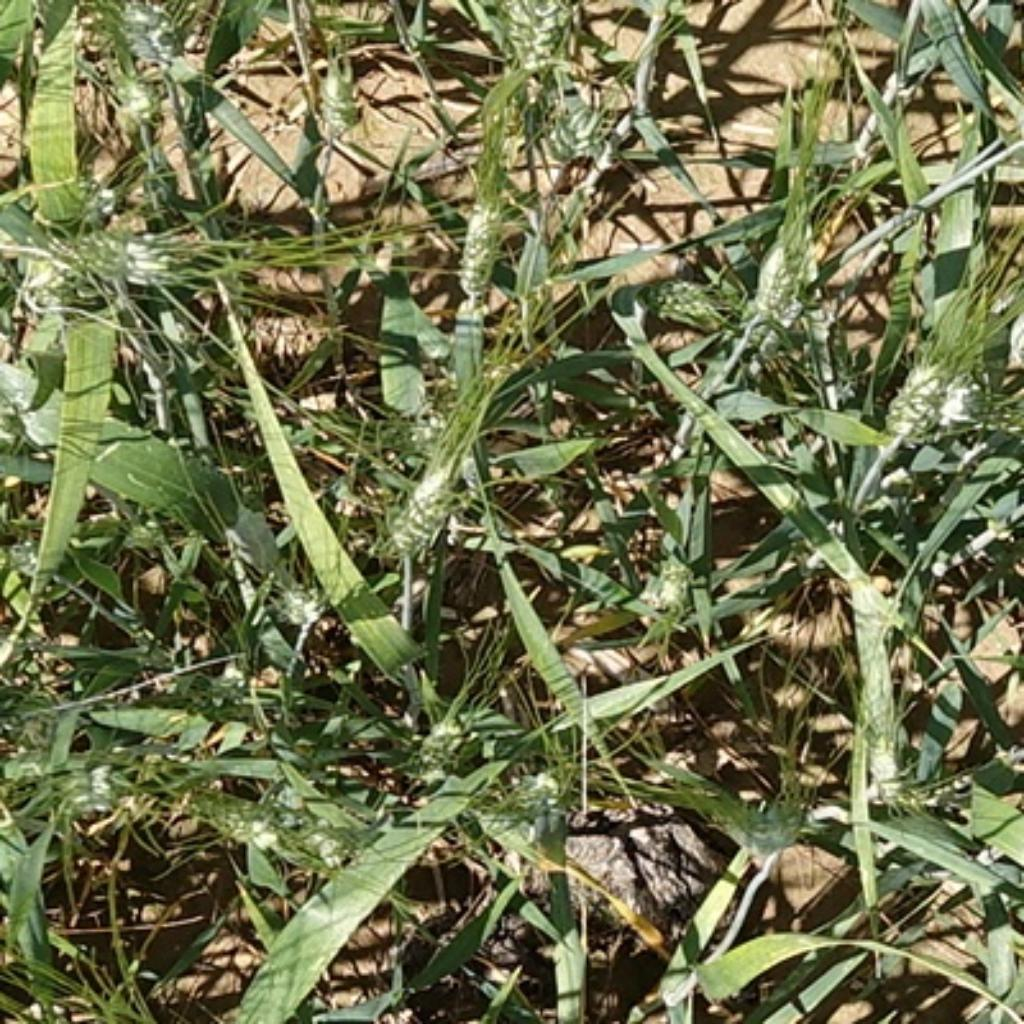0-0: (844, 668, 919, 803), (756, 216, 845, 324), (47, 224, 175, 295), (471, 2, 583, 74), (552, 74, 642, 156), (396, 696, 483, 775), (450, 186, 512, 291), (198, 790, 294, 853), (881, 363, 949, 444), (649, 272, 731, 333), (307, 46, 363, 135), (386, 485, 457, 552), (742, 787, 808, 858), (60, 767, 140, 824), (502, 770, 571, 830), (266, 565, 330, 627), (644, 560, 699, 628), (116, 71, 167, 122), (943, 390, 981, 426)
